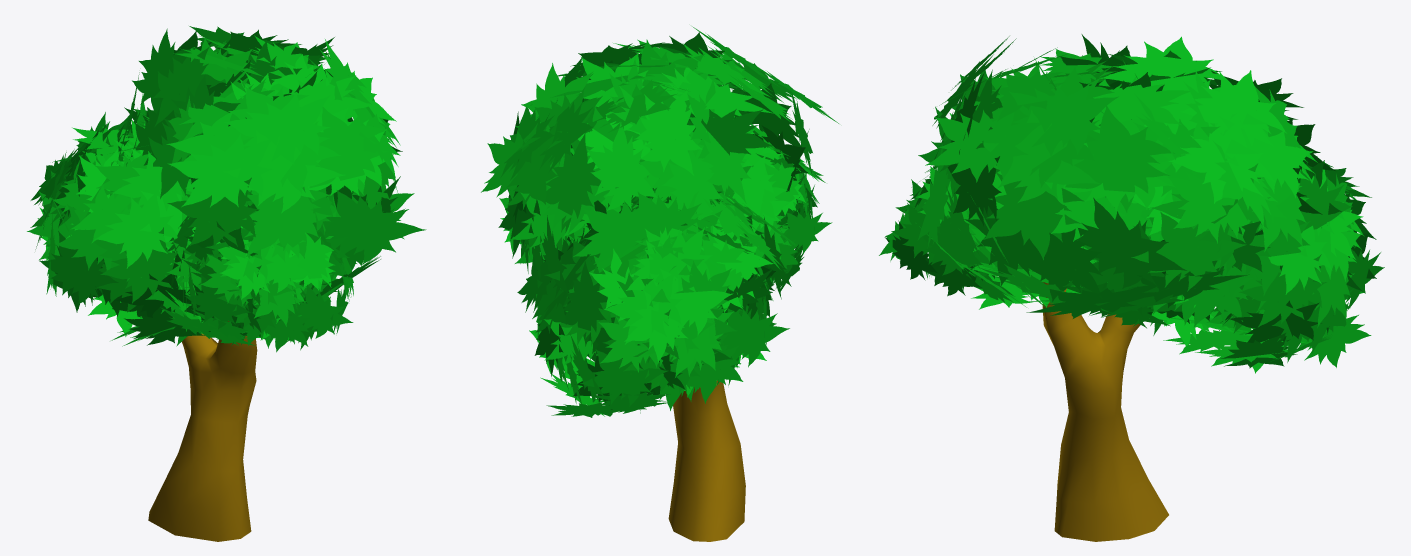
File: tree_02 1.fbx
3 views of the same model, side by side, from view 1: azimuth 30°, elevation 25°; view 2: azimuth 150°, elevation 25°; view 3: azimuth 270°, elevation 25° (orthographic). The views are drawn at different scales.
Visible parts, largest first — view 1: tree_02_REN; view 2: tree_02_REN; view 3: tree_02_REN.
Boxes of the visible parts, box(x1,y1,x2,y2) form: tree_02_REN: box(27, 26, 426, 541); tree_02_REN: box(481, 26, 838, 541); tree_02_REN: box(879, 34, 1384, 541).
Size of the model in its own units: 862 by 1246 by 1120.
